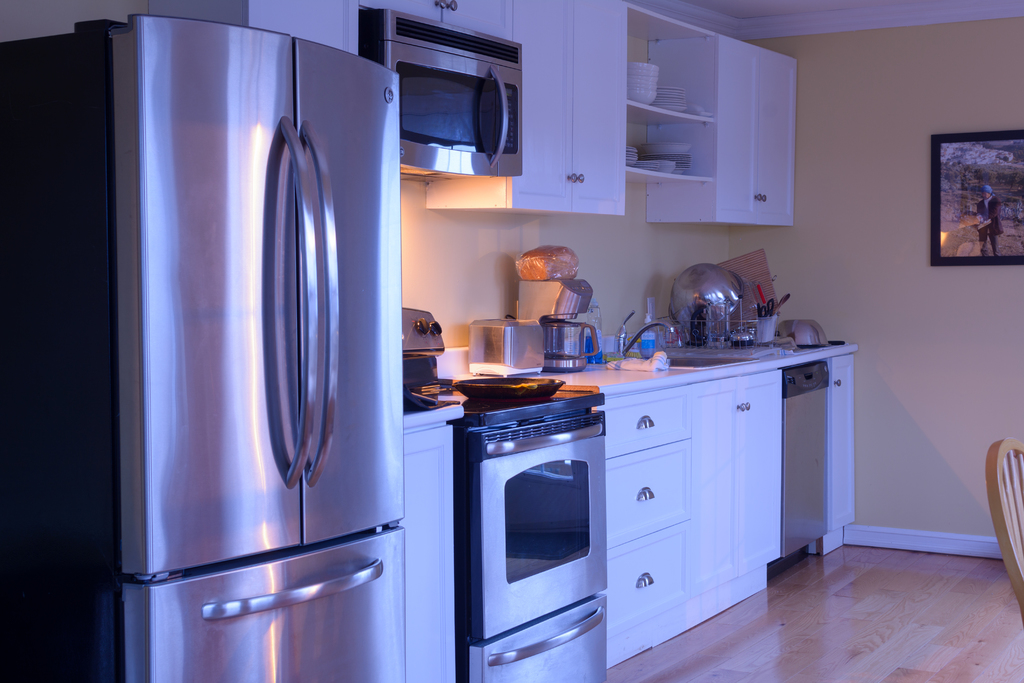cabinet door: (511, 9, 574, 205), (572, 4, 626, 213), (694, 386, 740, 577), (598, 444, 689, 533), (742, 381, 786, 551), (717, 42, 756, 222), (758, 51, 795, 225), (610, 535, 690, 608), (601, 393, 689, 439), (833, 358, 856, 519), (449, 2, 514, 37)
handle: (266, 125, 319, 489), (305, 123, 343, 500), (200, 557, 387, 630), (492, 608, 601, 669), (492, 64, 508, 163), (631, 407, 662, 432), (632, 567, 658, 592), (633, 476, 658, 502), (574, 163, 590, 189), (739, 394, 756, 418), (563, 165, 578, 188), (756, 184, 770, 208), (732, 395, 746, 419), (826, 375, 843, 393), (751, 184, 762, 208)
refrigerator door: (140, 28, 303, 548), (299, 53, 409, 526), (131, 551, 404, 683)
